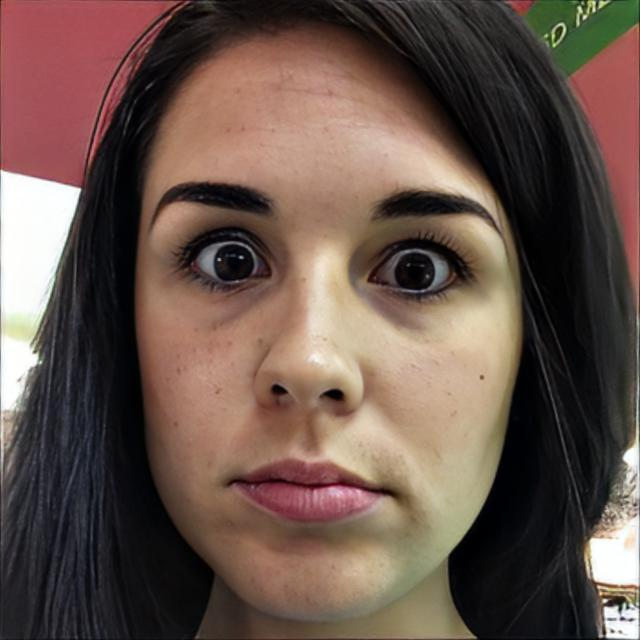surprise: (134, 19, 526, 625)
